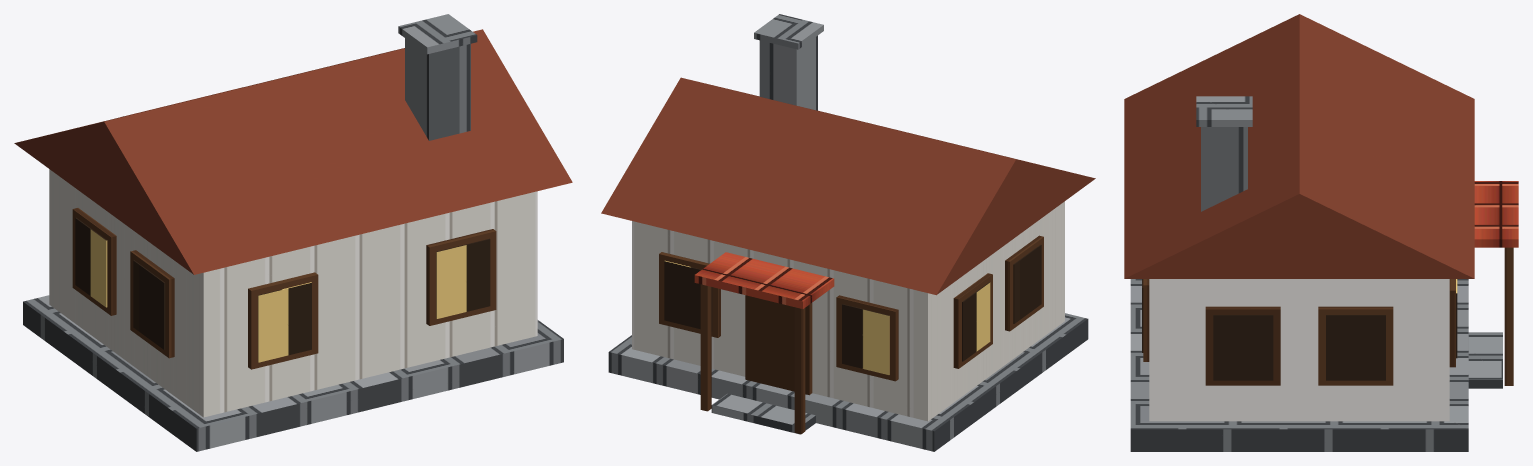
The model's file is House.fbx.
3 renders of one model, left to right at view 1: azimuth 30°, elevation 25°; view 2: azimuth 150°, elevation 25°; view 3: azimuth 270°, elevation 25°, orthographic. The views are drawn at different scales.
Parts seen in each view (by area): view 1: House; view 2: House; view 3: House.
Boxes of the visible parts, x1,y1,x2,y2 form: House: (14, 14, 572, 451); House: (601, 14, 1095, 451); House: (1124, 14, 1518, 451).
Bounding box in the file's own units: 680 × 541 × 630.
5 materials, 5 textured.
